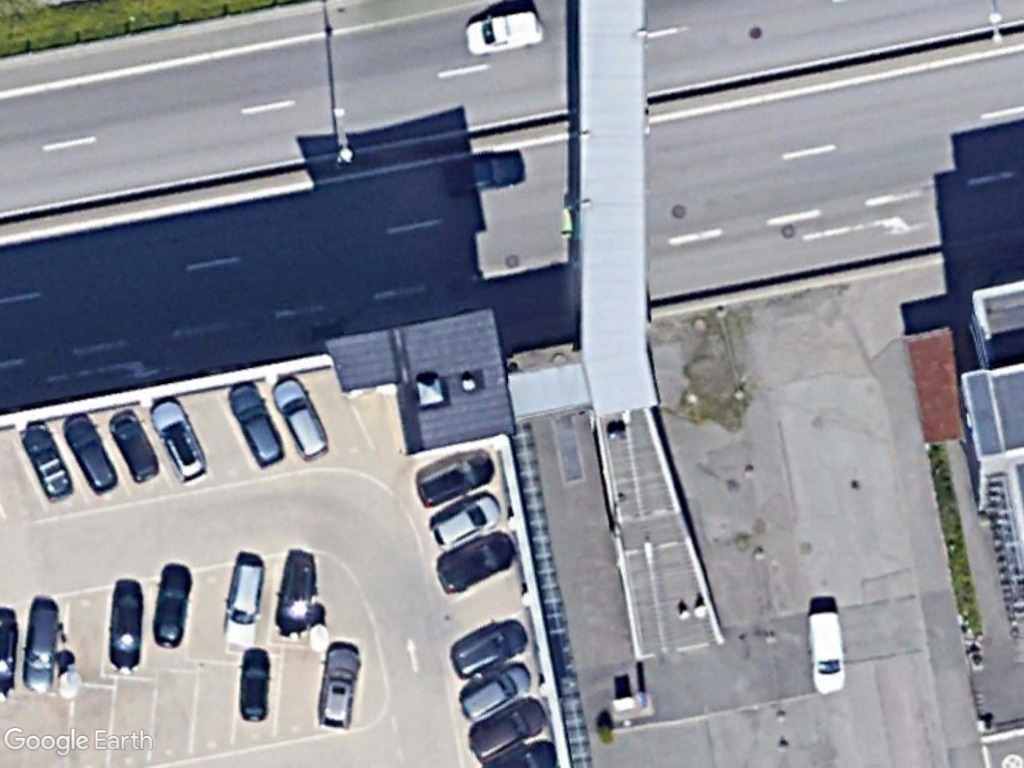car: (463, 692, 550, 766), (433, 525, 522, 597), (444, 614, 533, 686), (146, 396, 215, 488), (57, 412, 126, 498), (269, 372, 332, 465), (410, 447, 499, 511), (222, 381, 285, 471), (15, 422, 81, 507), (456, 656, 537, 725), (217, 548, 275, 639), (427, 485, 506, 551), (17, 600, 67, 700), (268, 547, 319, 644), (314, 640, 365, 736), (104, 571, 149, 679), (106, 408, 164, 490), (149, 560, 192, 654), (235, 644, 276, 727)
van: (460, 2, 547, 61), (806, 606, 853, 702)
